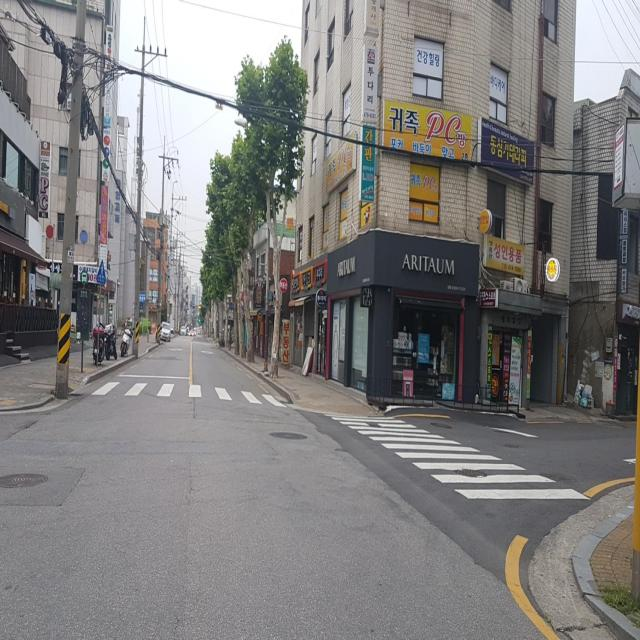횡단보도: (322, 412, 592, 504), (88, 378, 287, 407)
